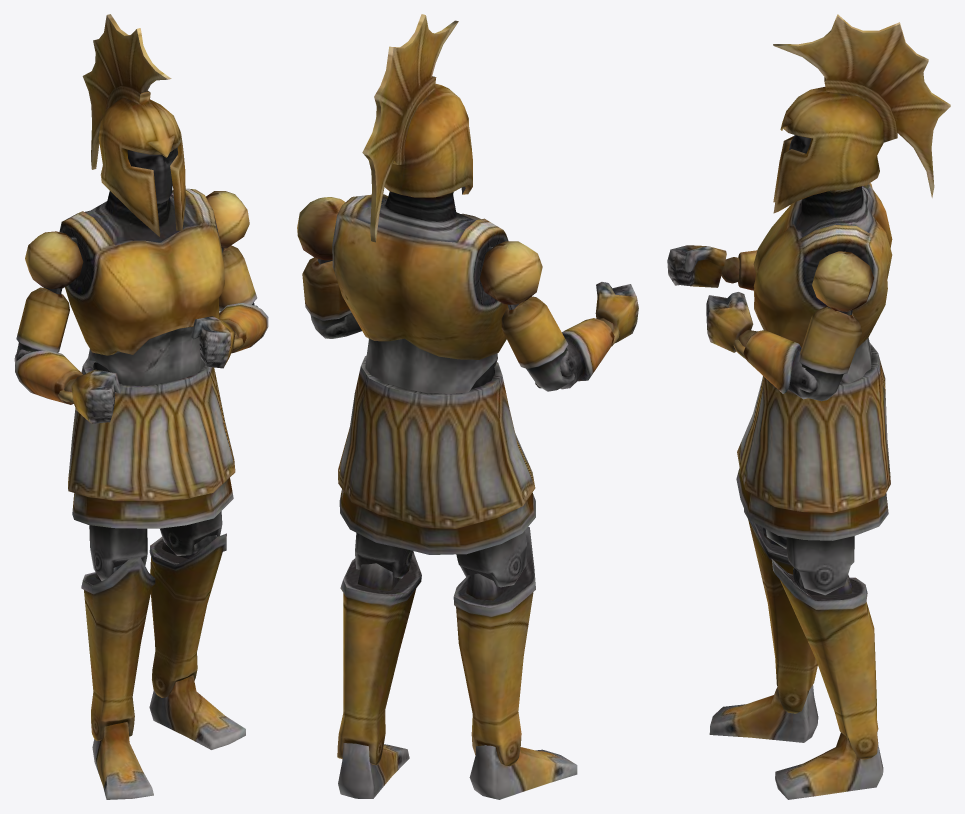
The model's file is body-hephaestusrevenge.glb.
The picture shows the model from 3 angles, left to right: view 1: azimuth 30°, elevation 25°; view 2: azimuth 150°, elevation 25°; view 3: azimuth 270°, elevation 25°; orthographic projection. The views are drawn at different scales.
Bounding box in the file's own units: 1.11 × 3.05 × 1.05.
Materials: 1 (1 with a texture image).
